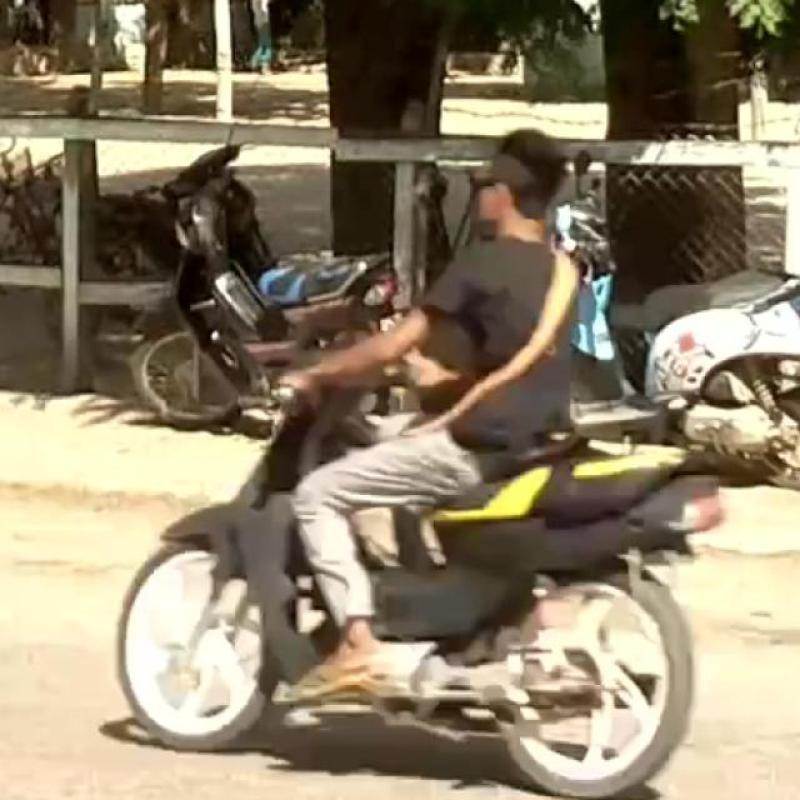nohelmet: (442, 99, 610, 255)
